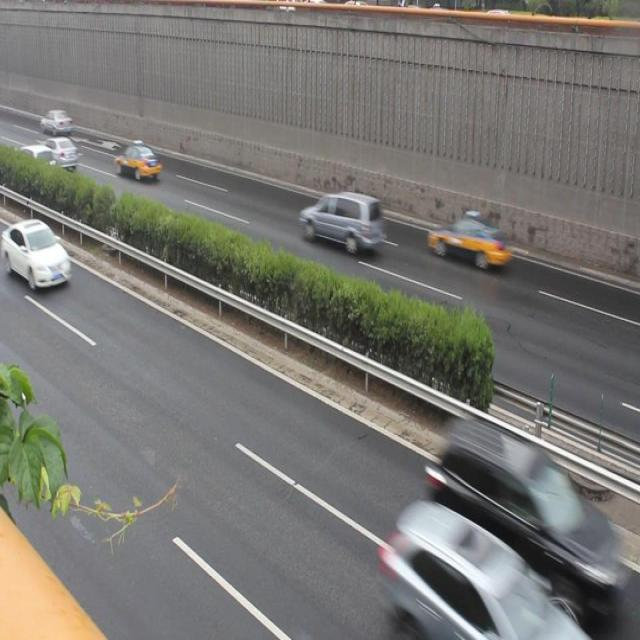car: (426, 412, 623, 616), (379, 498, 574, 640), (1, 219, 72, 291), (426, 215, 505, 272), (12, 144, 55, 185), (115, 143, 162, 179), (35, 138, 81, 173)
truck: (299, 190, 382, 252)
